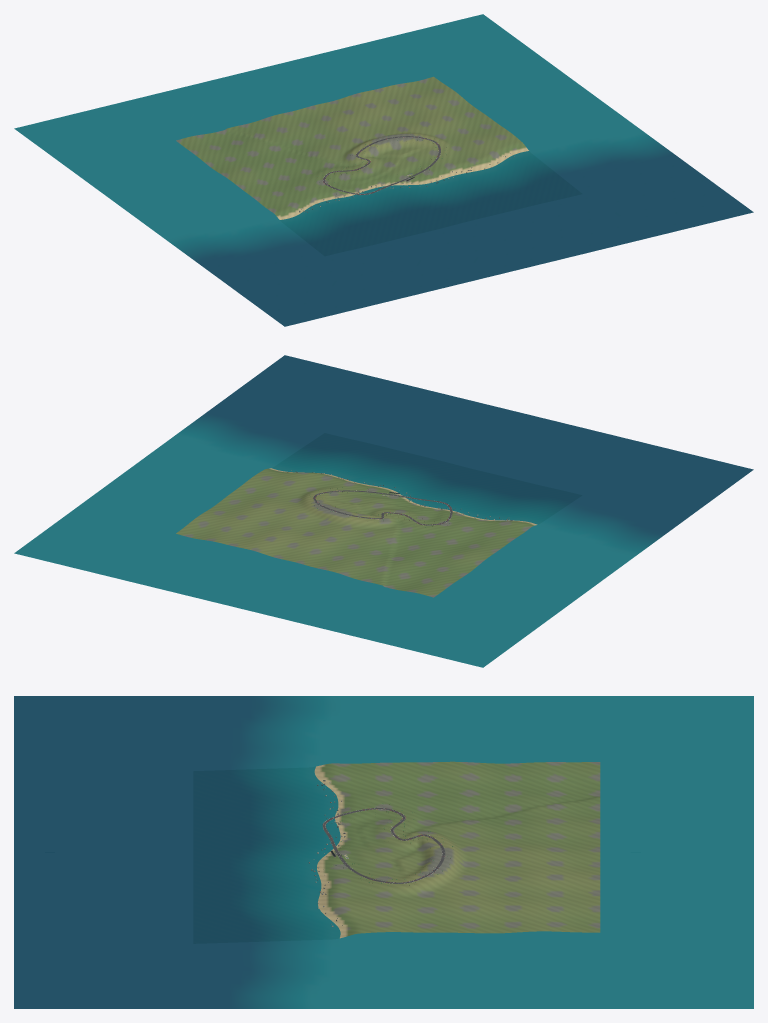
Rendered from azurline-circuit-lod0.glb.
3 renders of one model, top to bottom at view 1: azimuth 30°, elevation 25°; view 2: azimuth 150°, elevation 25°; view 3: azimuth 270°, elevation 25°, orthographic. The views are drawn at different scales.
Visible parts, largest first — view 1: ocean__Atlantic_water, terrain__Coastal_terrain; view 2: ocean__Atlantic_water, terrain__Coastal_terrain; view 3: ocean__Atlantic_water, terrain__Coastal_terrain, road__Asphalt_—_aggregate_variation.
Part boxes in pixels (x1=…): ocean__Atlantic_water: x1=14, y1=14, x2=753, y2=326; terrain__Coastal_terrain: x1=176, y1=76, x2=528, y2=219; ocean__Atlantic_water: x1=14, y1=355, x2=753, y2=667; terrain__Coastal_terrain: x1=176, y1=468, x2=537, y2=597; ocean__Atlantic_water: x1=14, y1=696, x2=753, y2=1008; terrain__Coastal_terrain: x1=314, y1=761, x2=600, y2=938; road__Asphalt_—_aggregate_variation: x1=323, y1=808, x2=444, y2=883.
Bounding box in the file's own units: 4000 × 120 × 4000.
